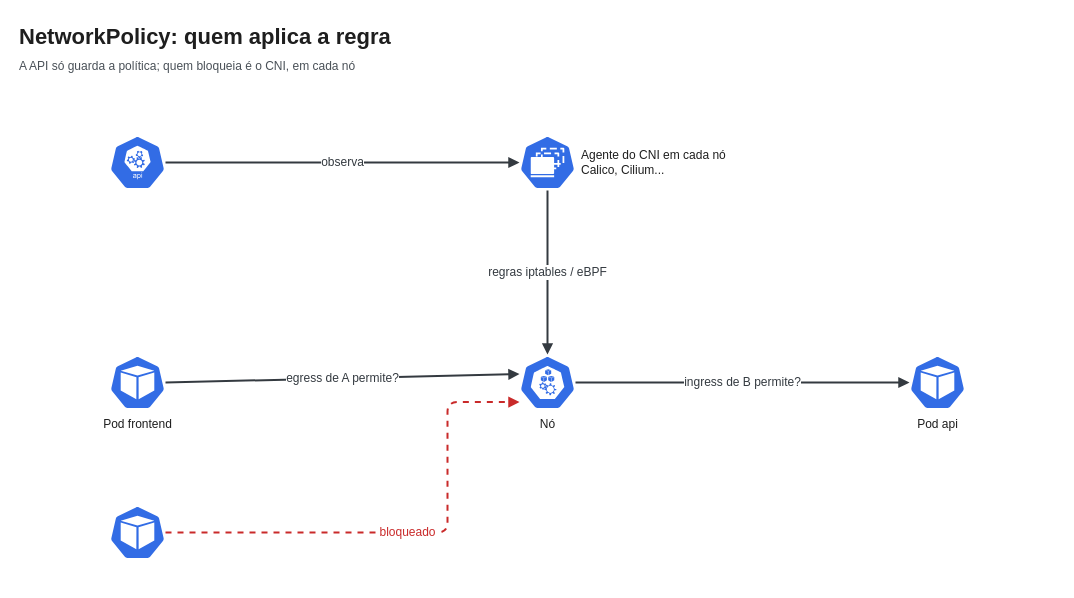
The diagram is 1074 pixels wide and 598 high, and some of its shapes have lost their labels. The shapes that lost their labels are listed below. From the top down, each one's centre as x and y in pixels, then its label:
At pixel 137 162: "kube-apiserver NetworkPolicy gravada".
At pixel 137 532: "Pod qualquer".
